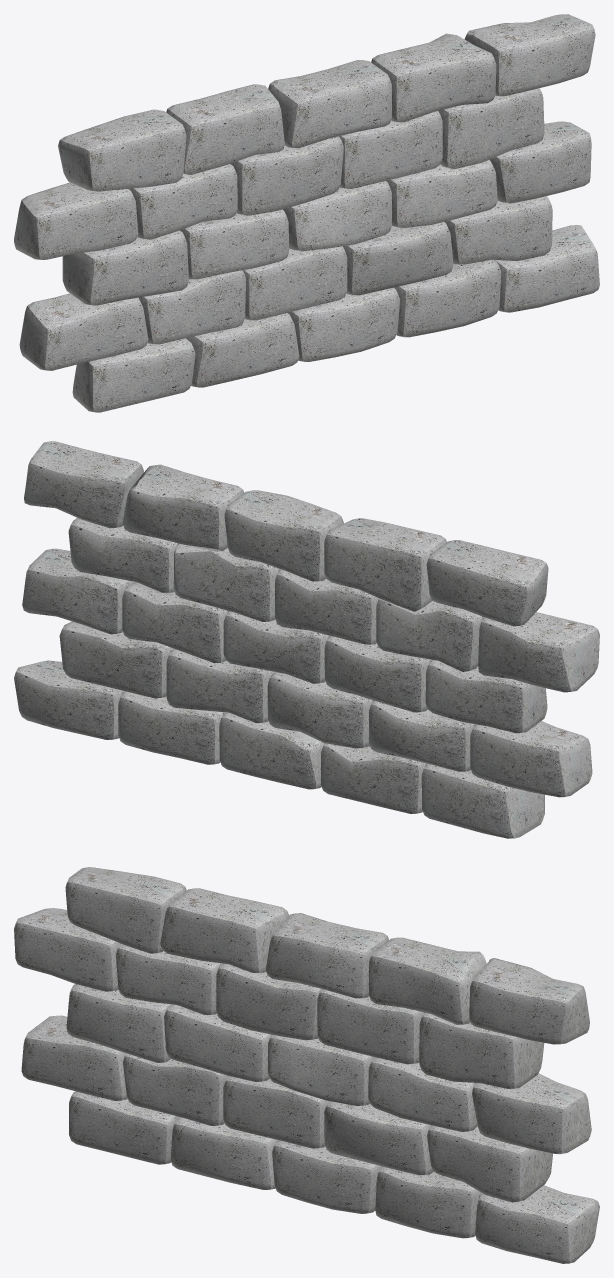
File: Stone_Wall.fbx
The picture shows the model from 3 angles, top to bottom: view 1: azimuth 30°, elevation 25°; view 2: azimuth 150°, elevation 25°; view 3: azimuth 330°, elevation 25°; orthographic projection.
Parts seen in each view (by area): view 1: pCube30; view 2: pCube30; view 3: pCube30.
Part boxes in pixels (x1=…): pCube30: x1=14, y1=14, x2=599, y2=412; pCube30: x1=14, y1=441, x2=599, y2=838; pCube30: x1=14, y1=867, x2=599, y2=1263.
Bounding box in the file's own units: 11.02 × 5.01 × 1.4.
1 material, 1 textured.
